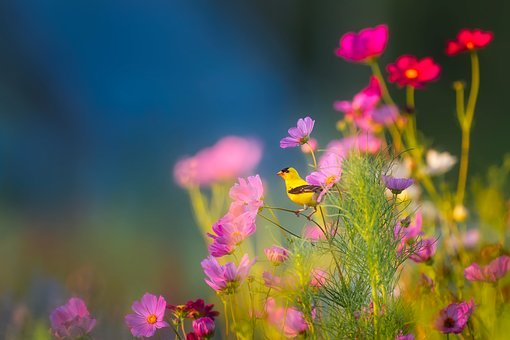flower: (119, 18, 496, 340)
